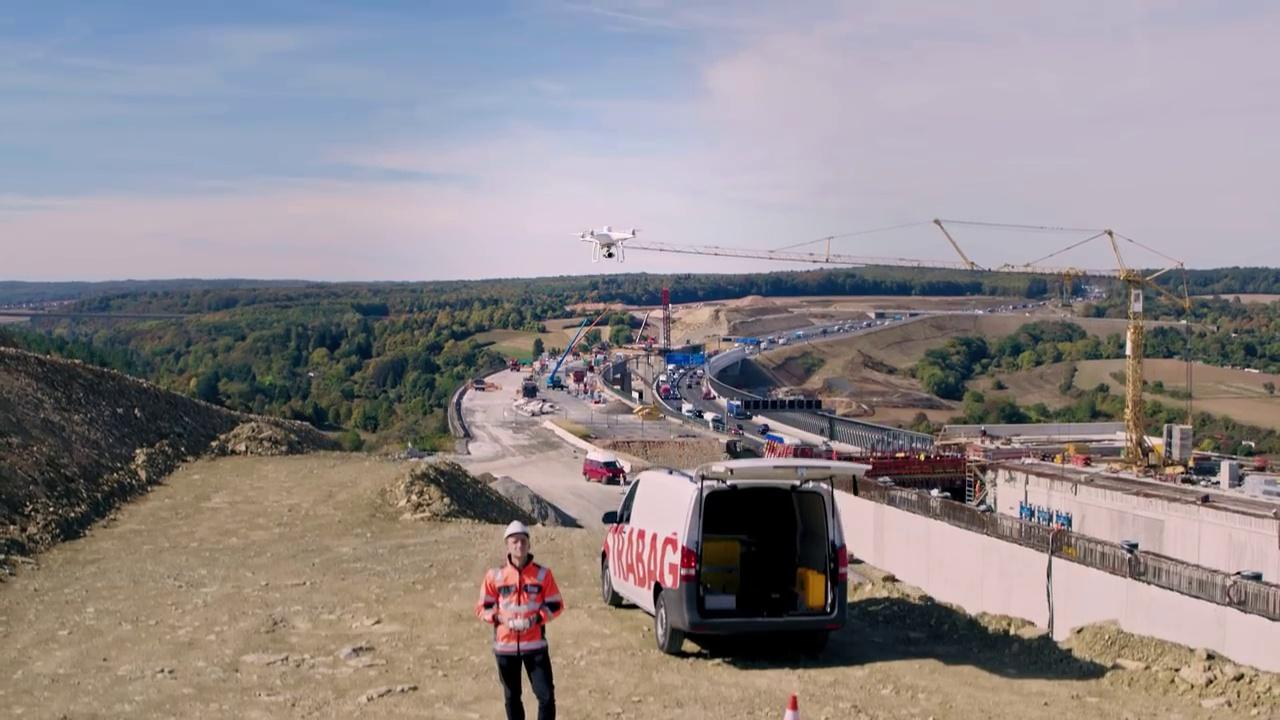drone: (571, 222, 647, 262)
